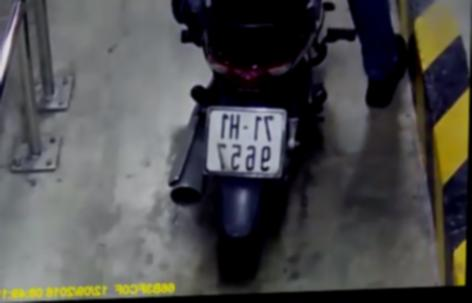License_Plate: (201, 101, 298, 184)
